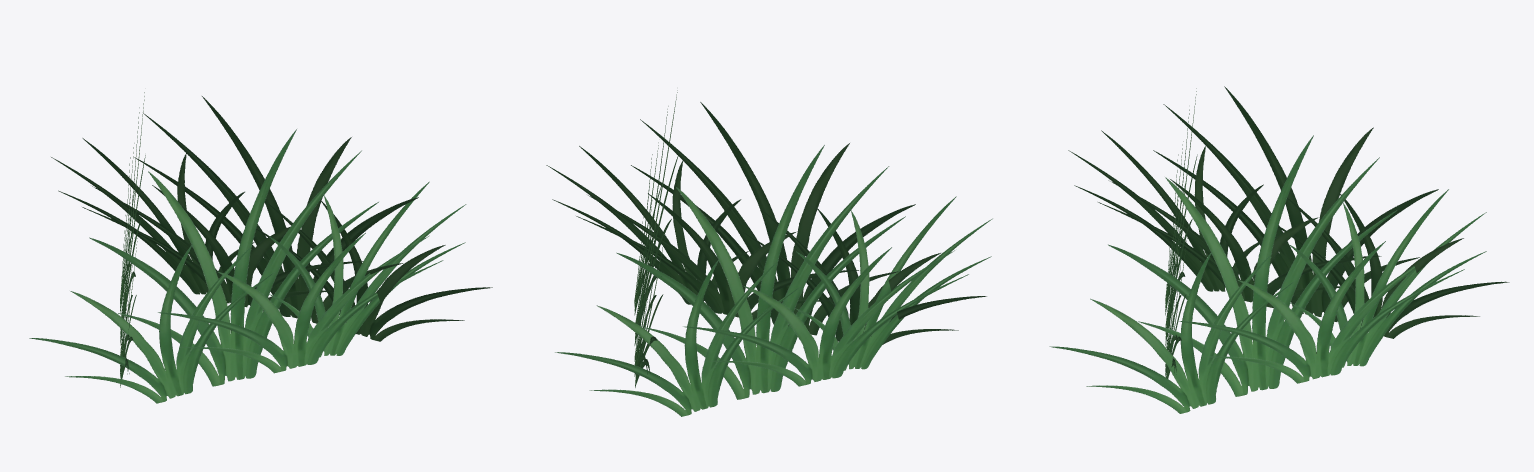
Rendered from grass_lod.fbx.
3 renders of one model, left to right at view 1: azimuth 30°, elevation 25°; view 2: azimuth 150°, elevation 25°; view 3: azimuth 270°, elevation 25°, orthographic.
Visible parts, largest first — view 1: pPlane1, pPlane3, pPlane2; view 2: pPlane2, pPlane1, pPlane3; view 3: pPlane3, pPlane2, pPlane1.
Boxes of the visible parts, box(x1,y1,x2,y2) form: pPlane1: box(29, 129, 466, 403); pPlane3: box(51, 96, 492, 341); pPlane2: box(120, 92, 145, 387); pPlane2: box(555, 145, 992, 416); pPlane1: box(546, 102, 986, 344); pPlane3: box(634, 90, 678, 387); pPlane3: box(1049, 135, 1486, 413); pPlane2: box(1068, 86, 1509, 338); pPlane1: box(1165, 88, 1197, 378).
Size of the model in its own units: 14.4 by 6.95 by 13.62.
1 material, 1 textured.
